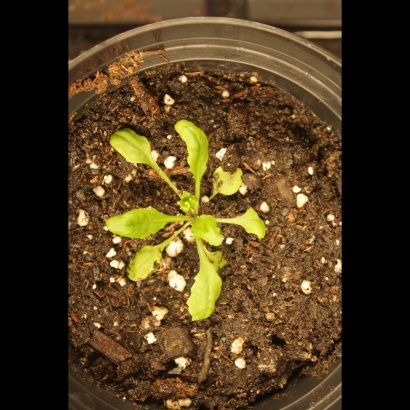leaf: (184, 259, 225, 333), (100, 201, 172, 240), (106, 126, 162, 176), (169, 115, 211, 180), (122, 241, 171, 288), (230, 203, 274, 240), (213, 162, 252, 196), (193, 216, 227, 249), (175, 189, 201, 218), (207, 248, 230, 271)
